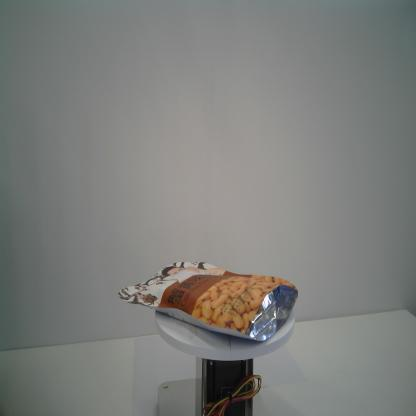Dried Fruit: (118, 260, 299, 343)
